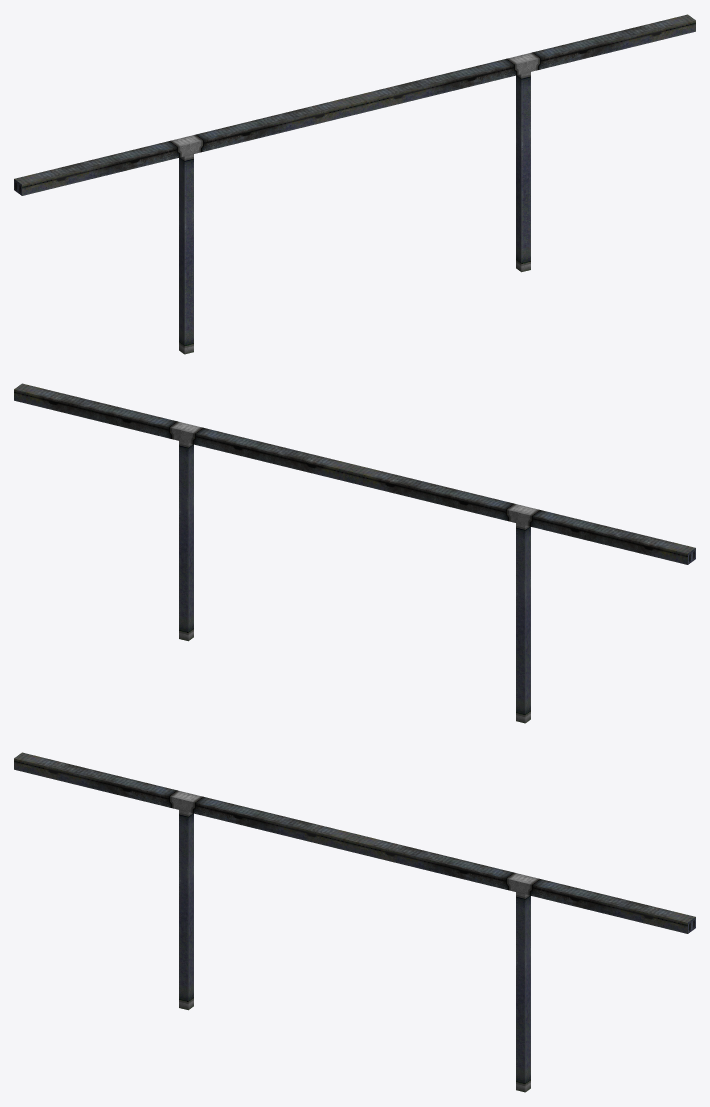
File: railing_straight.dae
3 renders of one model, top to bottom at view 1: azimuth 30°, elevation 25°; view 2: azimuth 150°, elevation 25°; view 3: azimuth 330°, elevation 25°, orthographic.
Visible parts, largest first — view 1: railing_straight; view 2: railing_straight; view 3: railing_straight.
Boxes of the visible parts, left/top/right/bottom form: railing_straight: left=14, top=14, right=695, bottom=354; railing_straight: left=14, top=383, right=695, bottom=723; railing_straight: left=14, top=752, right=695, bottom=1092.
Size of the model in its own units: 4 by 1.19 by 0.0836.
